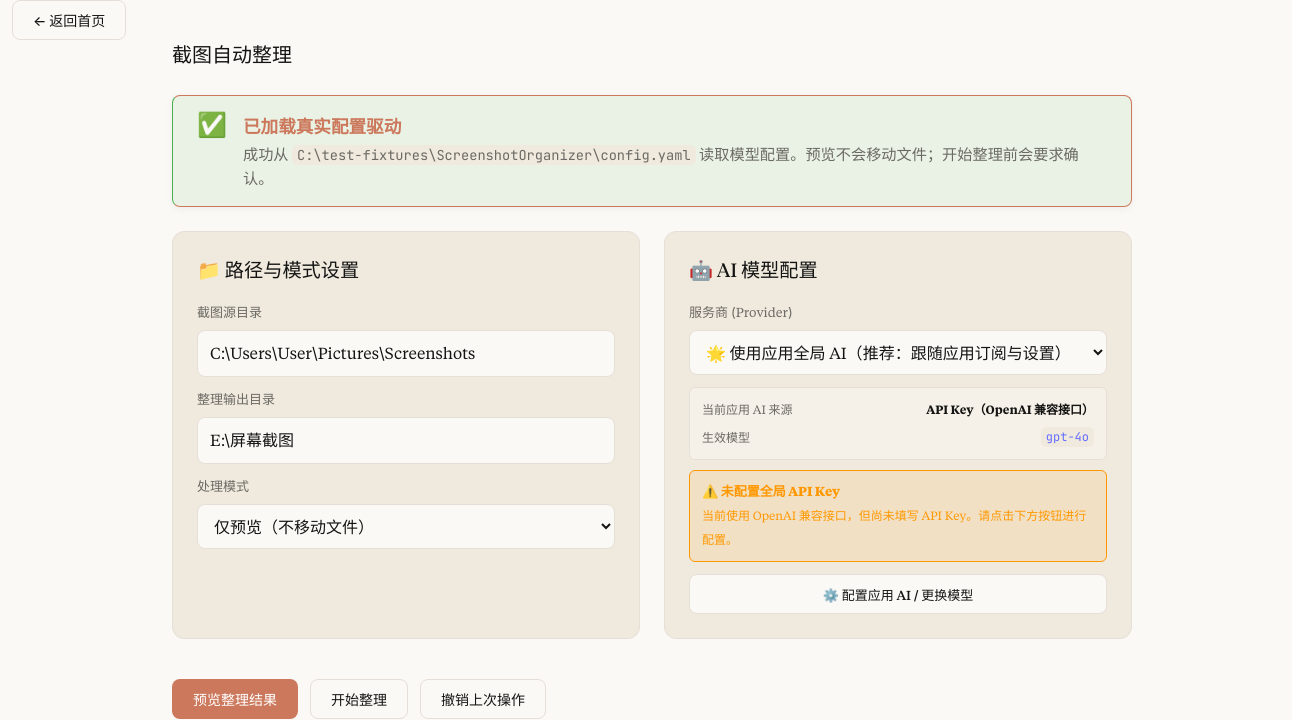
Test: ScreenshotOrganizerPanel › runs a real dry-run preview through the desktop bridge
This screenshot has width=1292, height=720.
Step 1. Click the button with test id "screenshot-preview" → (235, 699), box 172,679 -> 298,719
(page scrolled)
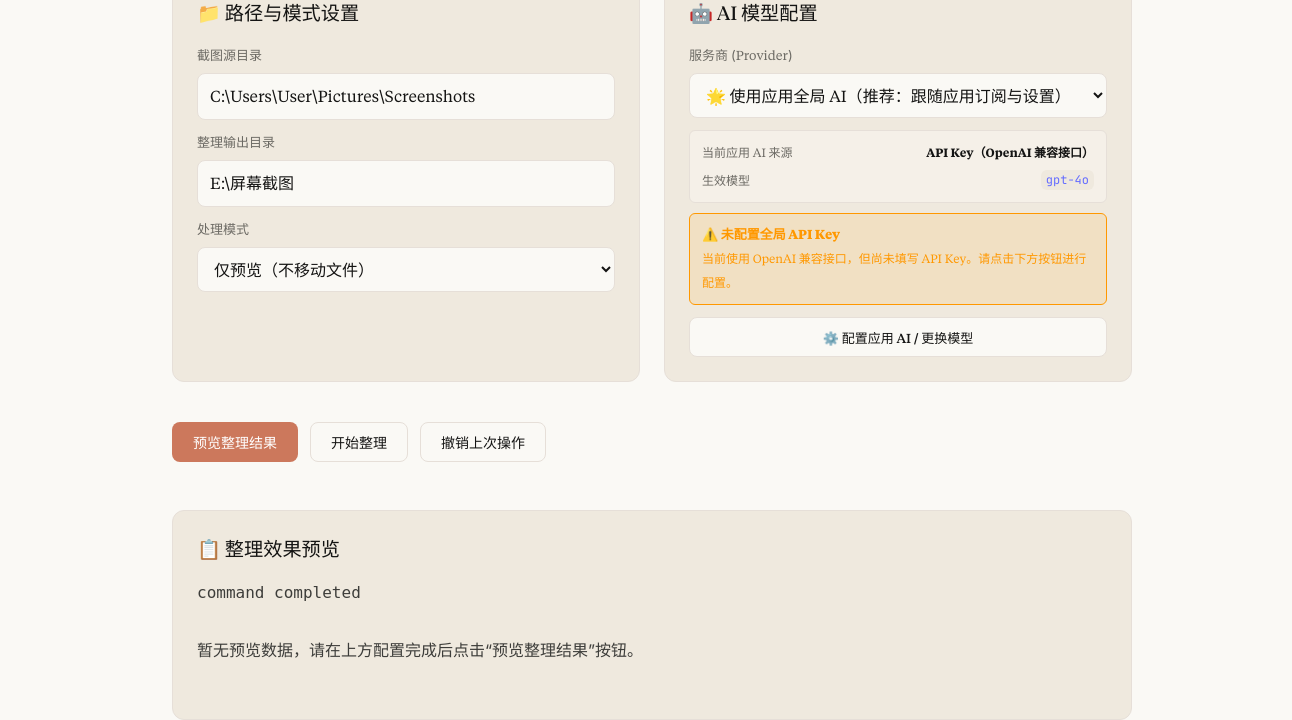
Expected: the text with test id "screenshot-command-output" reads "command completed", 197,583 -> 361,602
